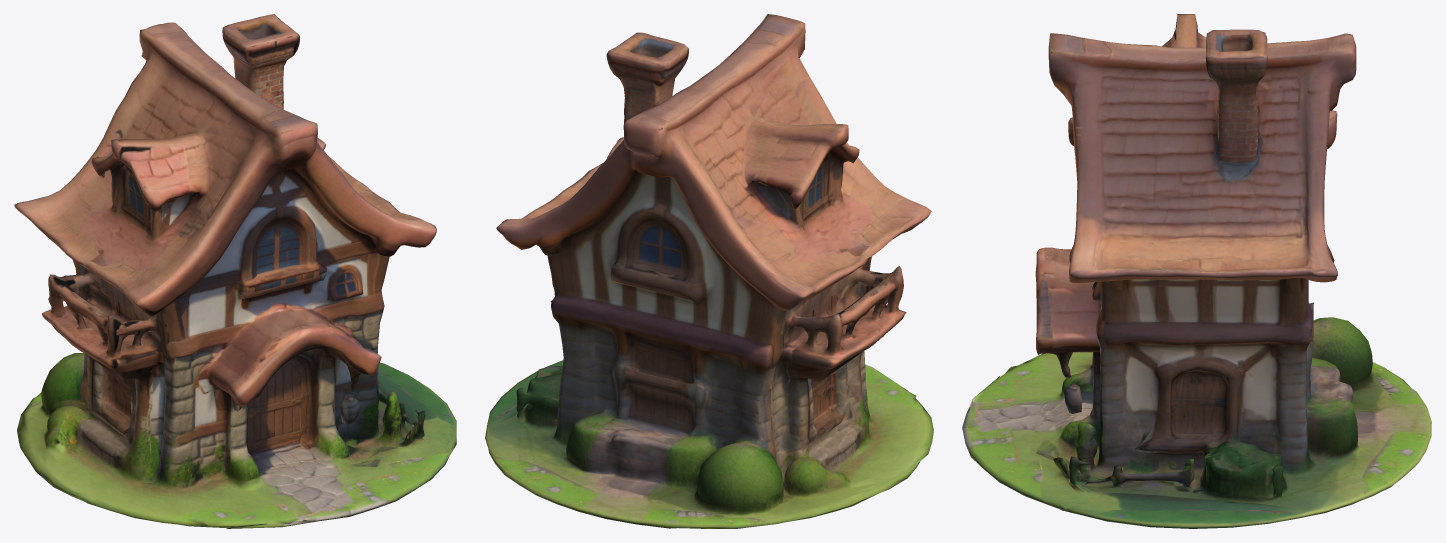
Rendered from A_small_whimsical_3_s_0128223902_texture.fbx.
The picture shows the model from 3 angles, left to right: view 1: azimuth 30°, elevation 25°; view 2: azimuth 150°, elevation 25°; view 3: azimuth 270°, elevation 25°; orthographic projection. The views are drawn at different scales.
Visible parts, largest first — view 1: Mesh1_Mesh1.025; view 2: Mesh1_Mesh1.025; view 3: Mesh1_Mesh1.025.
Part boxes in pixels (<box>): Mesh1_Mesh1.025: <box>14,14,456,528</box>; Mesh1_Mesh1.025: <box>485,14,933,528</box>; Mesh1_Mesh1.025: <box>962,14,1431,528</box>.
Size of the model in its own units: 197 by 193 by 198.
1 material, 1 textured.
